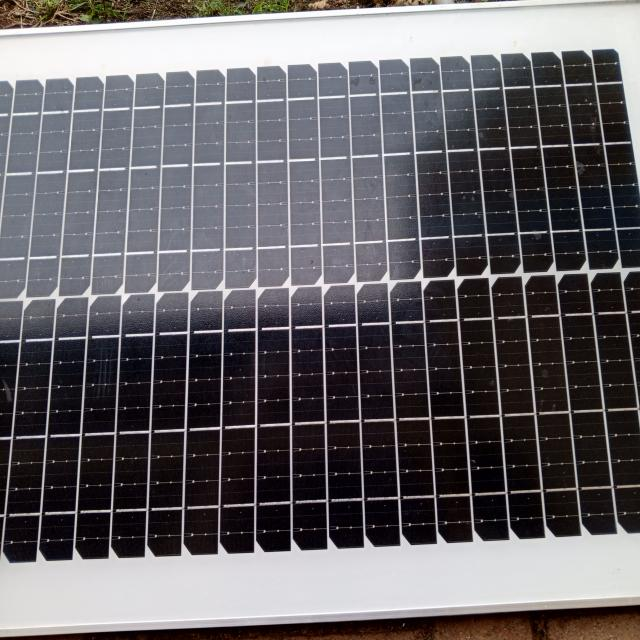Clean: (1, 51, 640, 538)
